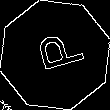P_W: (26, 30, 84, 80)
